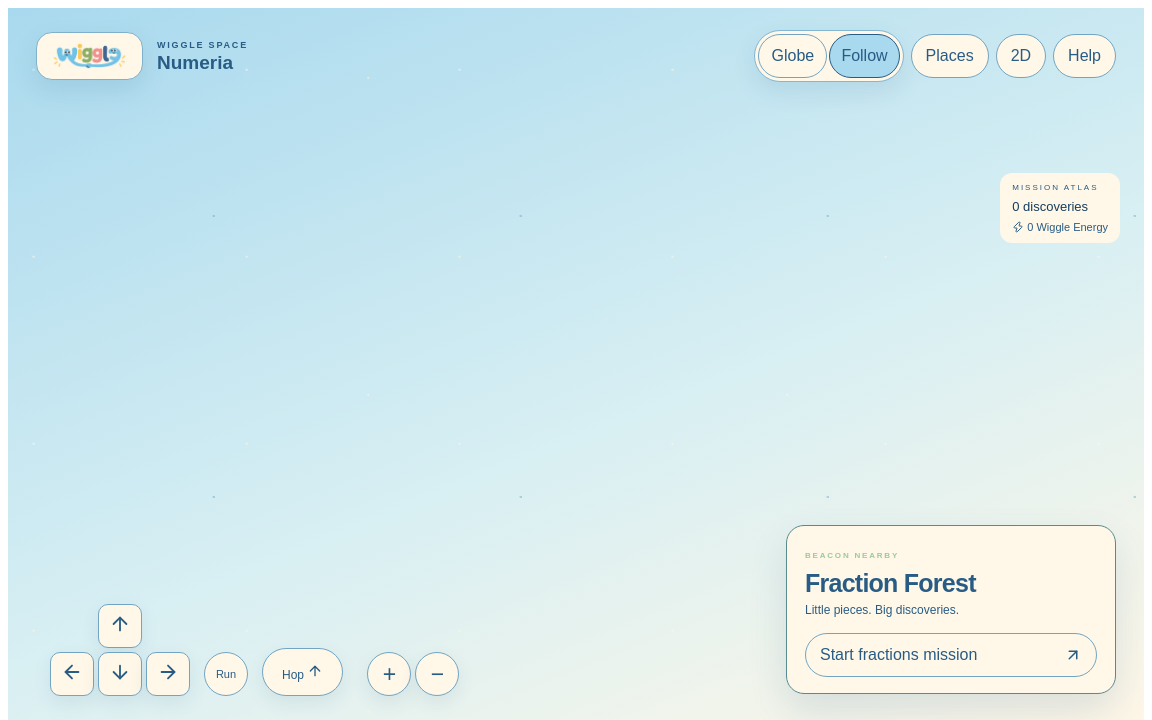
it: records actual selected input for stuck completion
This screenshot has width=1152, height=720.
Click the button "Start fractions mission".
click(951, 655)  # box [805, 633, 1097, 677]
(page scrolled)
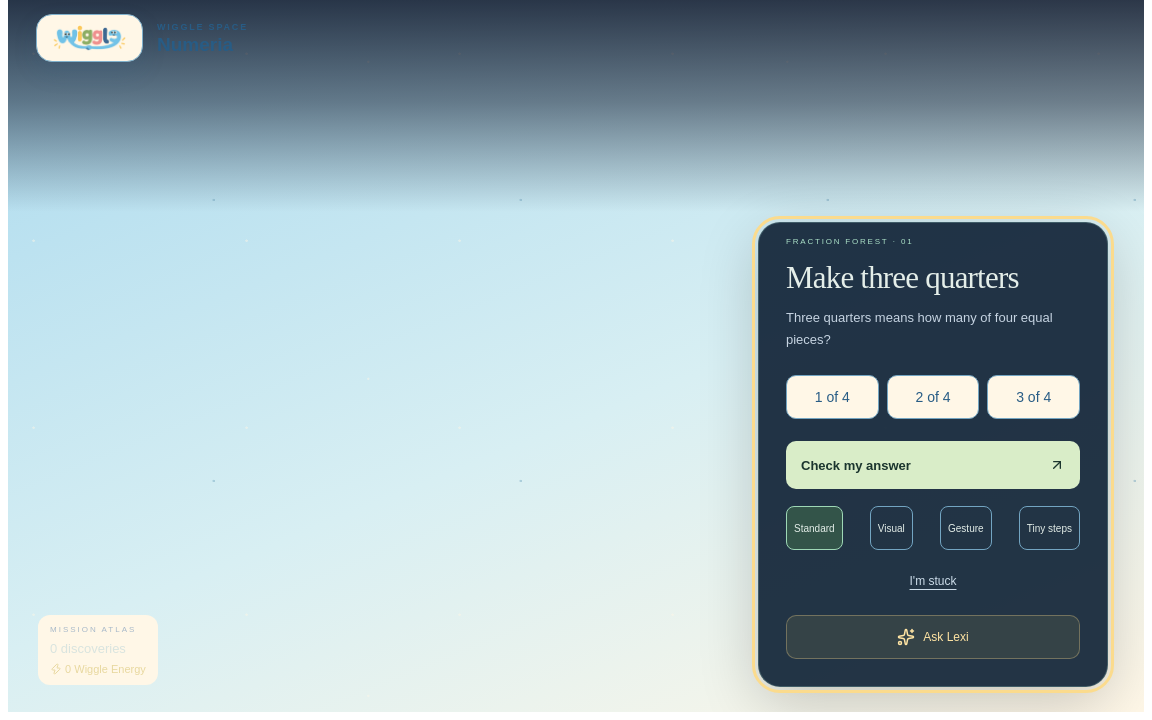
expect the heading "Make three quarters" is shown: met, box [786, 261, 1051, 295]
Click the button "I'm stuck".
click(933, 581)  # box [898, 559, 968, 603]
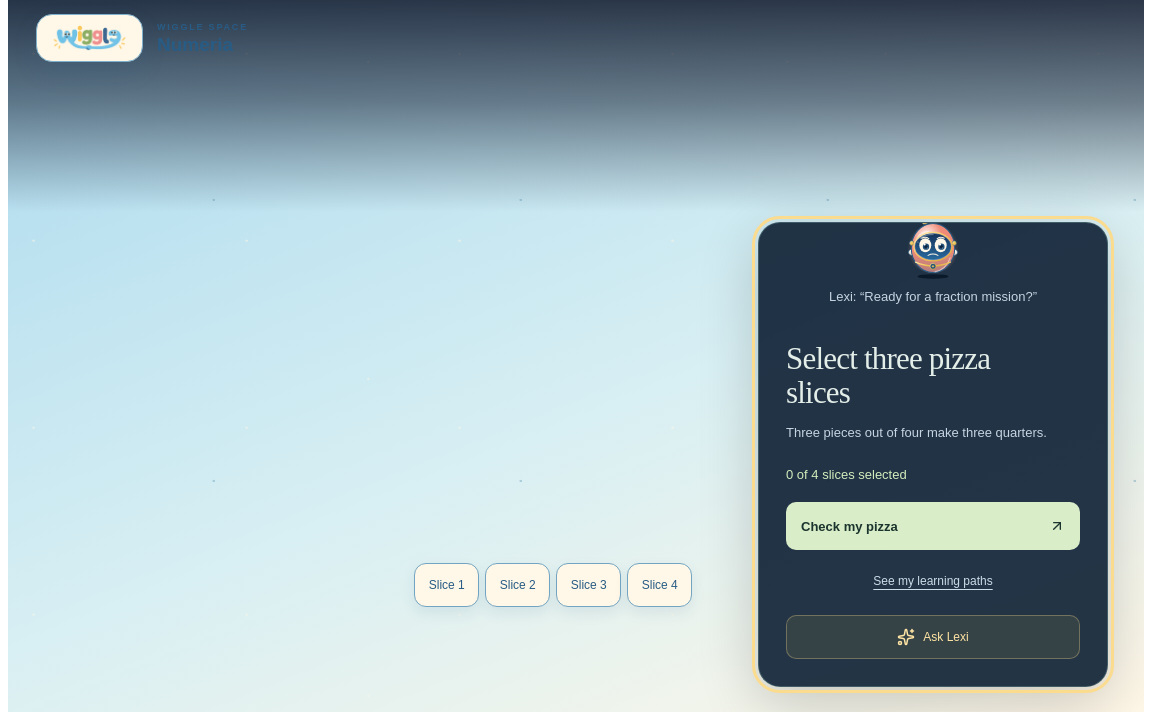
Click the button "Slice 1".
click(447, 585)  # box [414, 563, 479, 607]
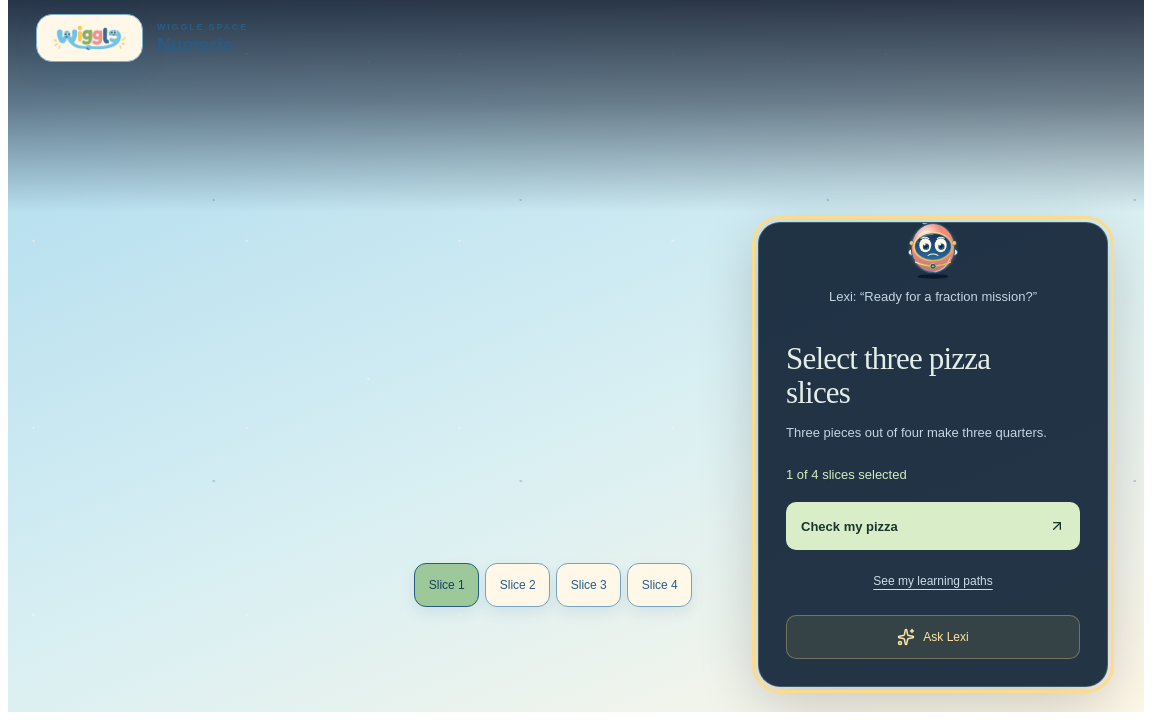
Click the button "Slice 2".
click(518, 585)  # box [485, 563, 550, 607]
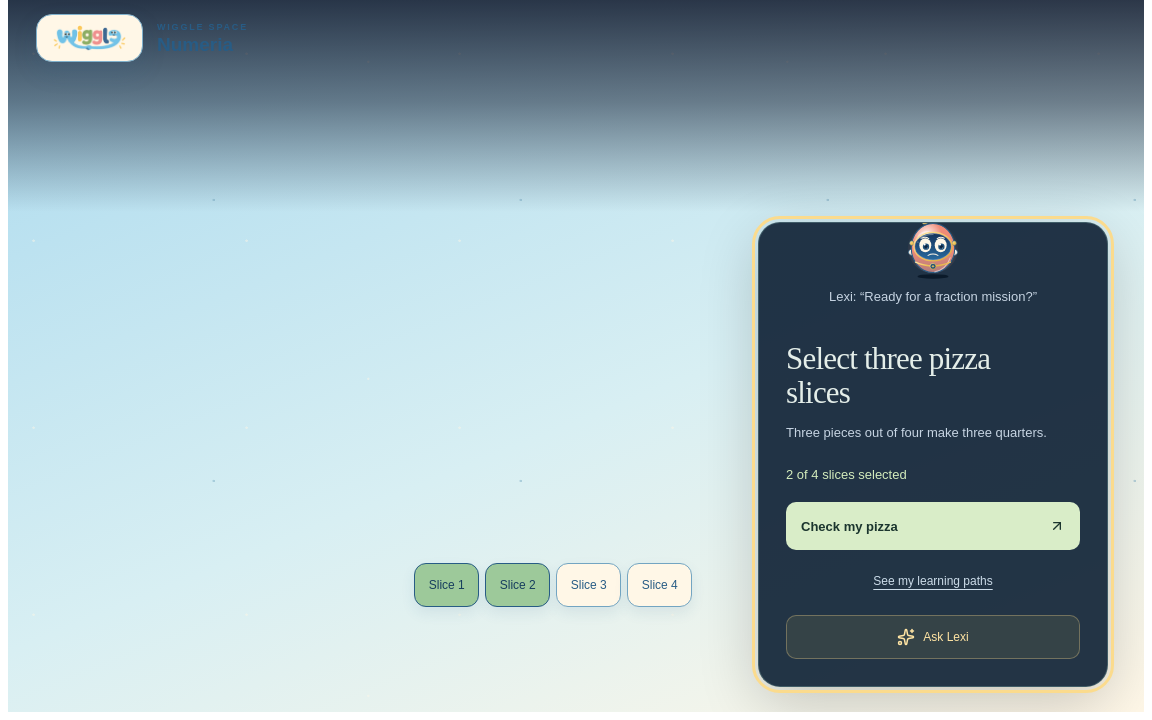
Click the button "Slice 3".
click(589, 585)  # box [556, 563, 621, 607]
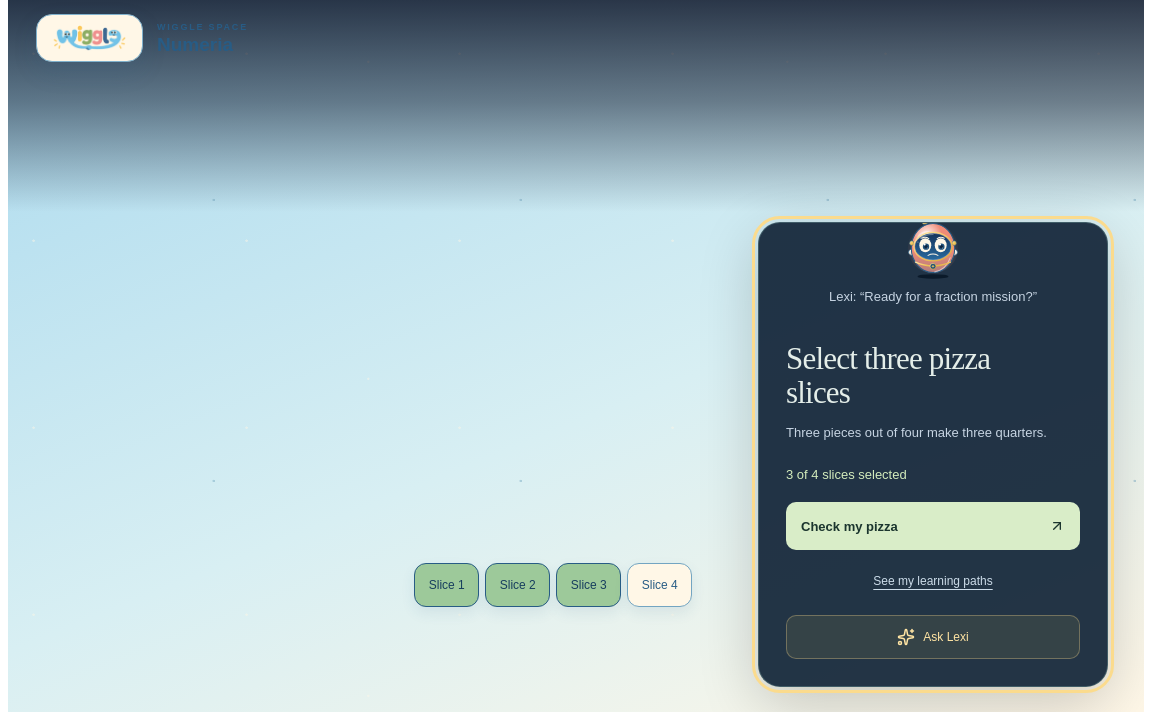
Click the button "Check my pizza".
click(849, 526)  # box [786, 502, 1080, 550]
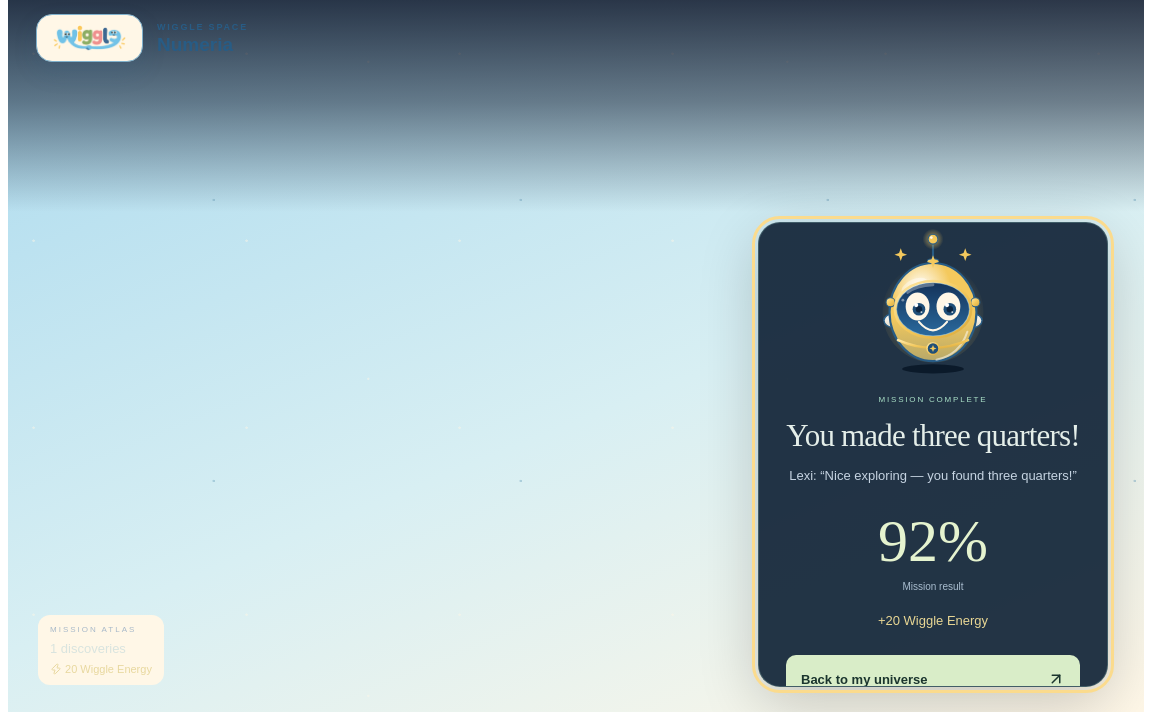
expect the text "+20 Wiggle Energy" is shown: met, box [878, 613, 988, 628]
